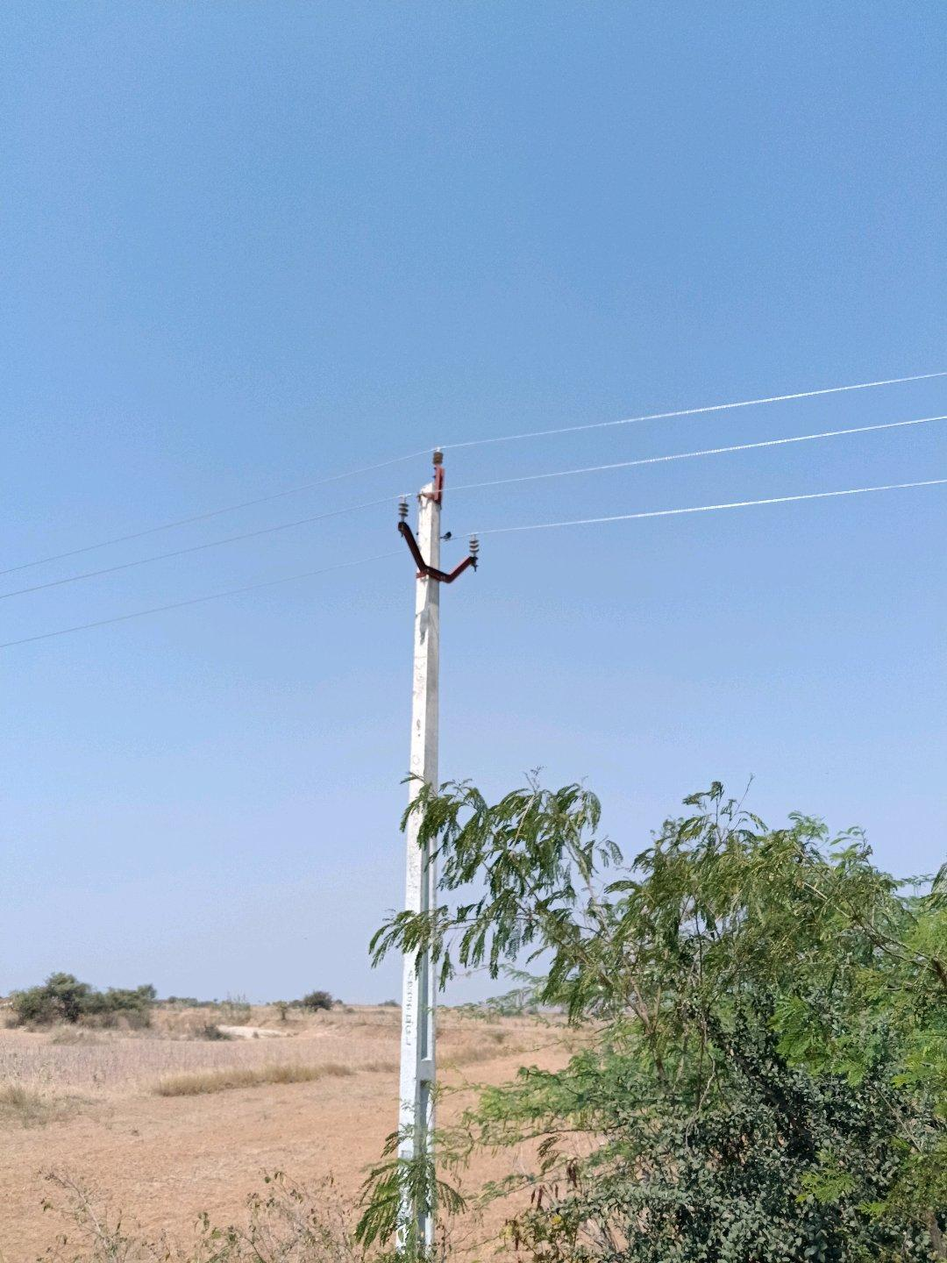{"0" "insulator", "1" "pole", "2" "crossarm", "3" "conductor", "4" "street_: (397, 450, 479, 927), (395, 942, 435, 1254)
